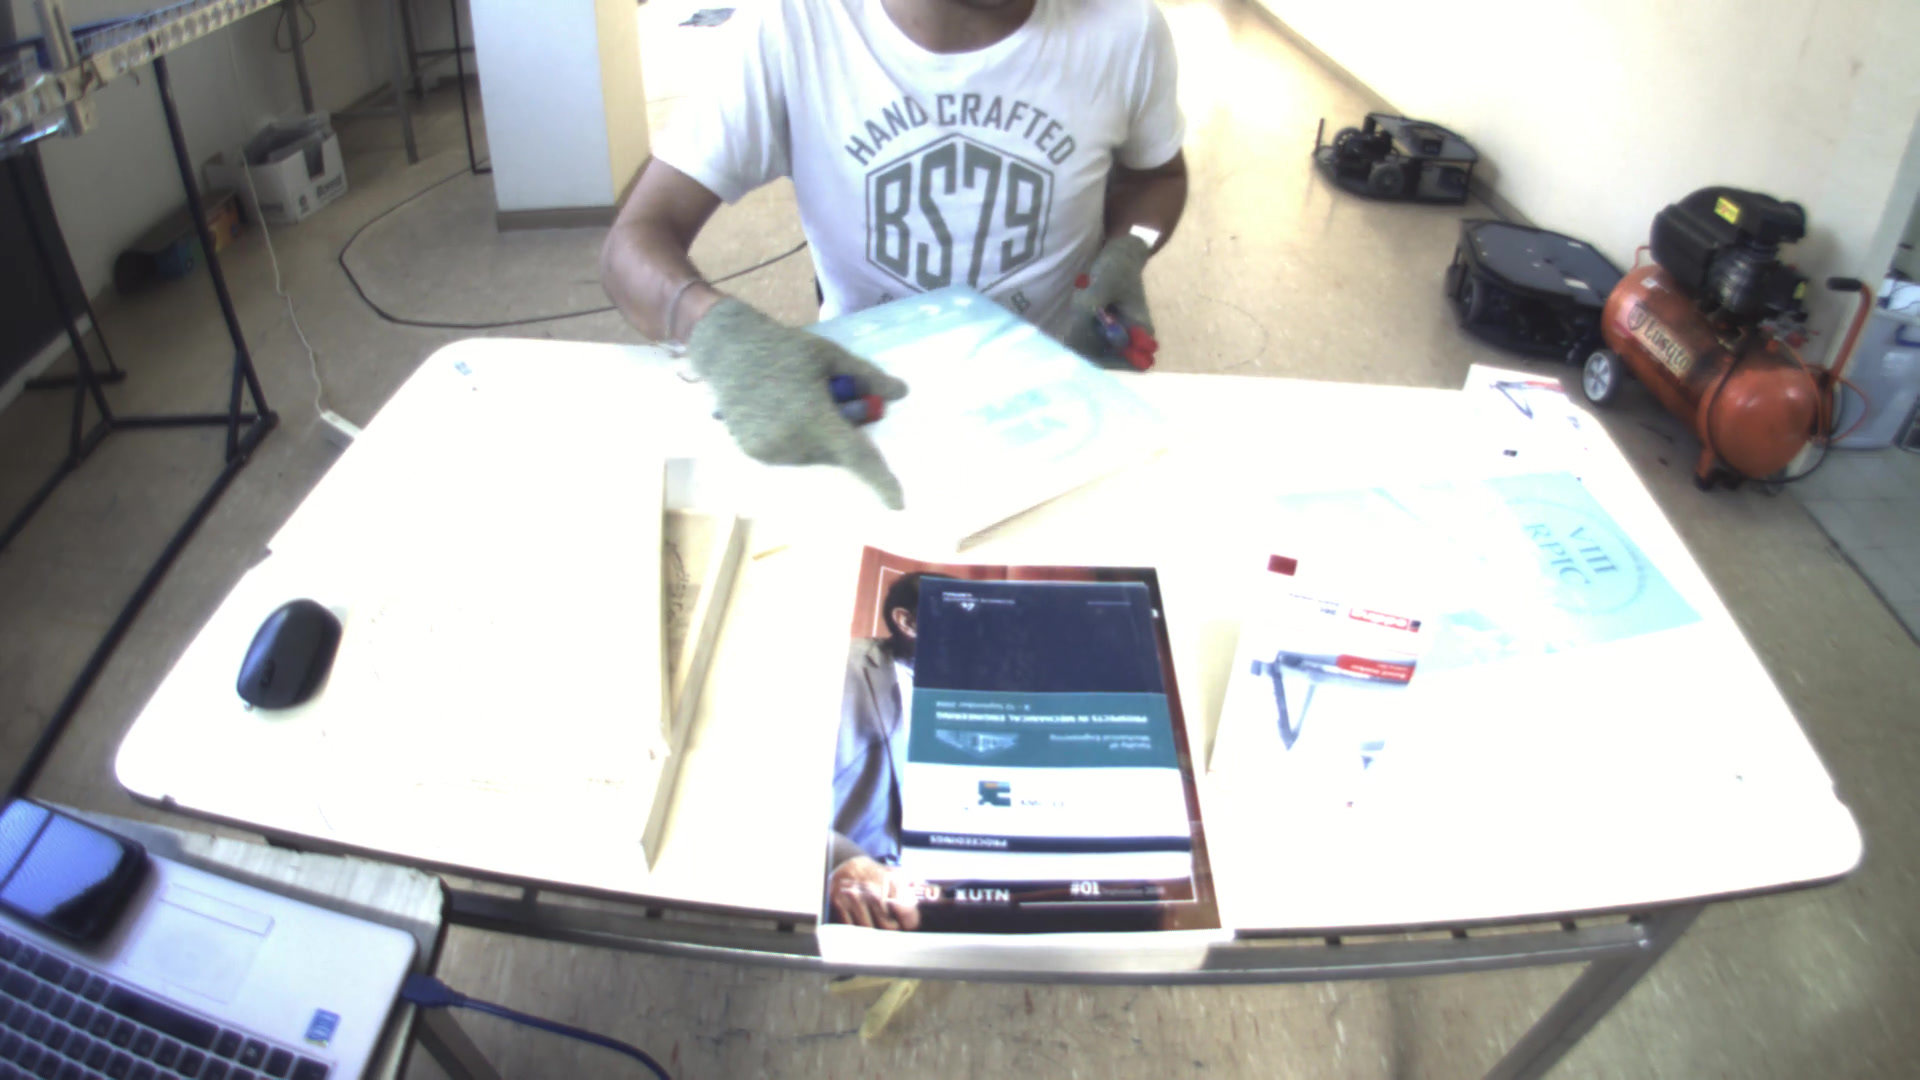hand: (669, 291, 920, 495), (1073, 228, 1166, 342)
